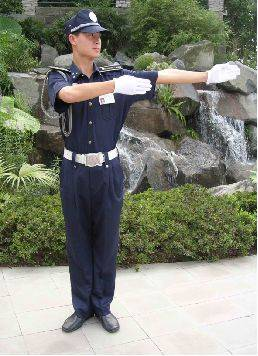hand: (207, 63, 241, 83)
